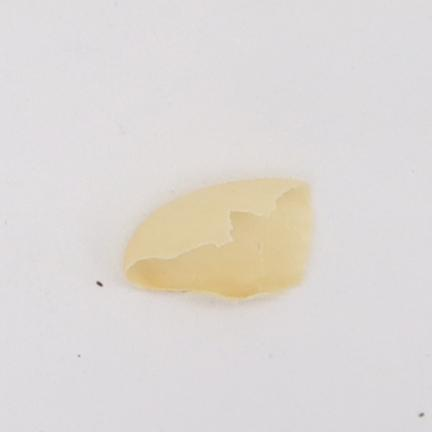parchment: (124, 179, 311, 299)
